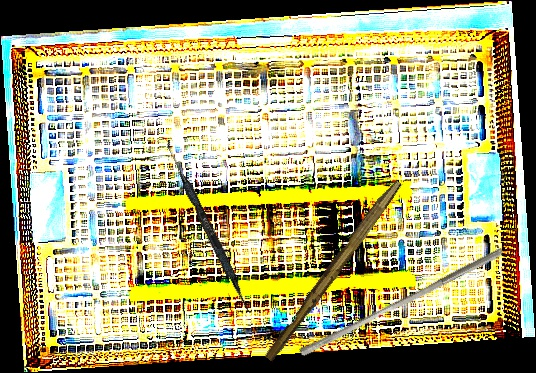Pusher: (297, 238, 506, 365)
Scalpel Handle: (263, 175, 403, 365)
Spatula Surgical: (159, 139, 256, 314)
